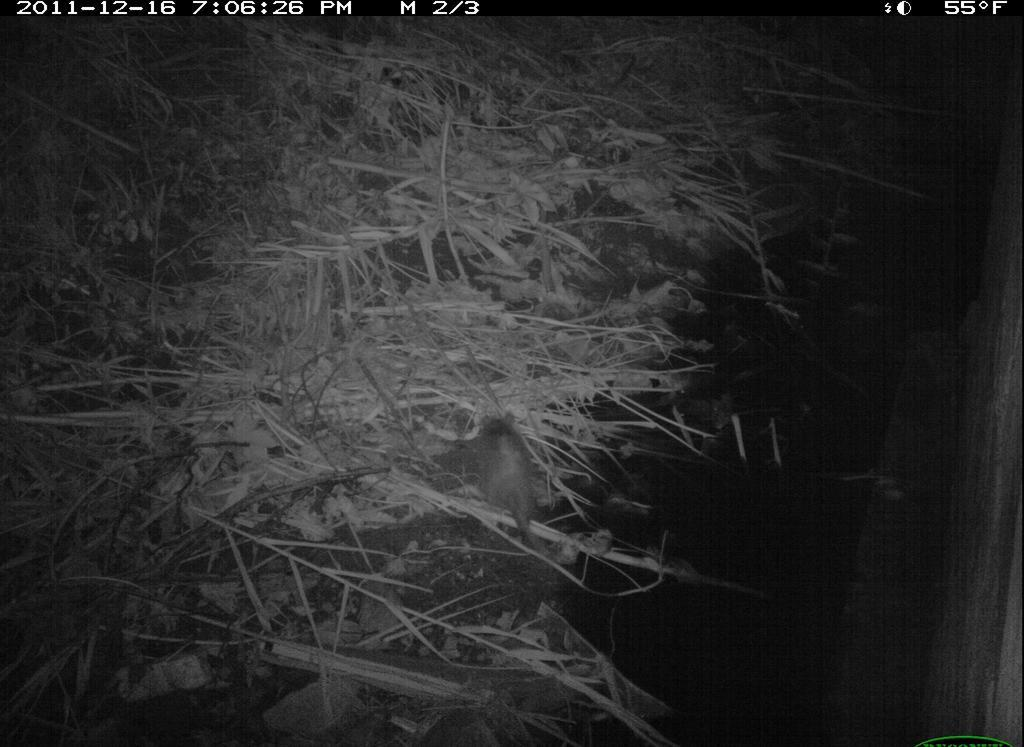opossum: (475, 408, 588, 570)
